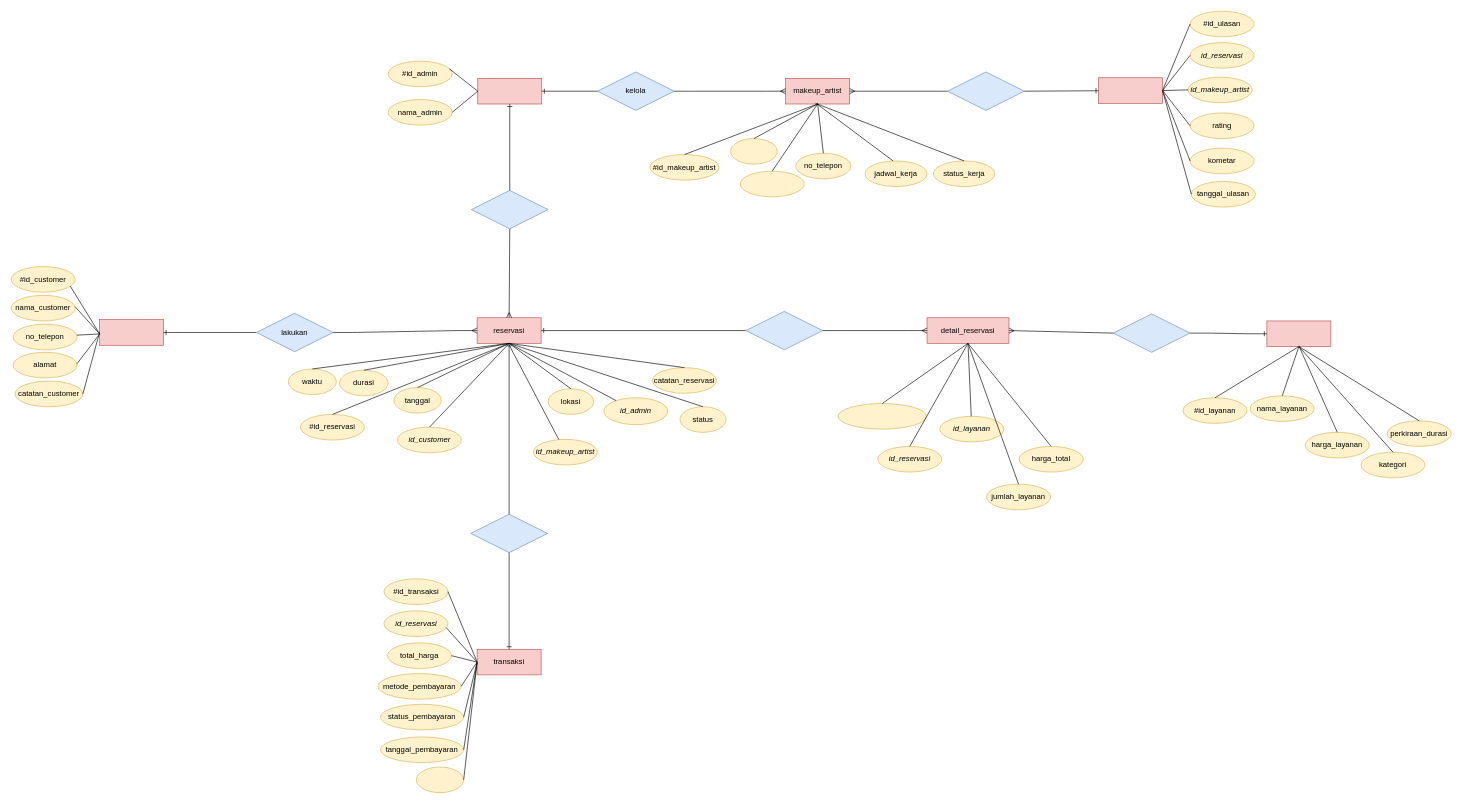
Some shapes in this 1462 by 804 pixel diagram are drawn without their labels. Here are the shapes that lost their labels. From the top down, the centre of each, then its label:
At point 509,91: "admin".
At point 985,90: "menerima".
At point 1130,90: "ulasan".
At point 753,151: "nama".
At point 772,184: "tarif__per_jam".
At point 509,209: "konfirmasi".
At point 131,332: "customer".
At point 784,330: "memiliki".
At point 1151,332: "meliputi".
At point 1298,333: "layanan".
At point 881,416: "#id_detail_reservasi".
At point 509,533: "bayar".
At point 440,779: "diskon".
